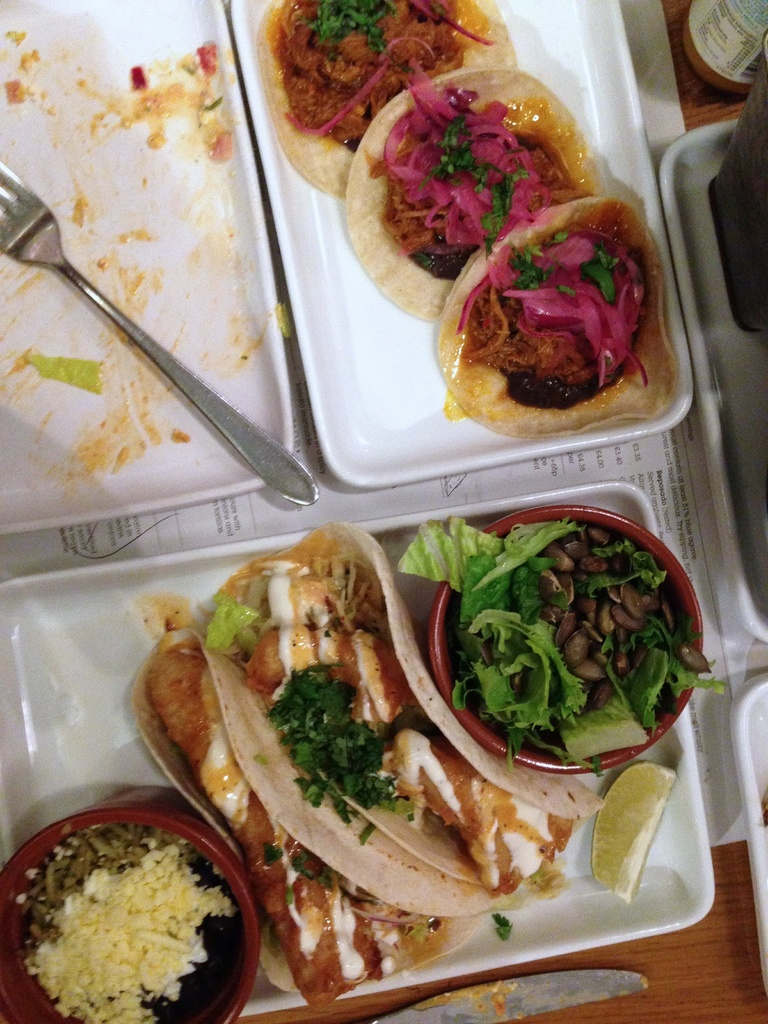taco: (225, 0, 697, 484), (204, 519, 604, 895)
